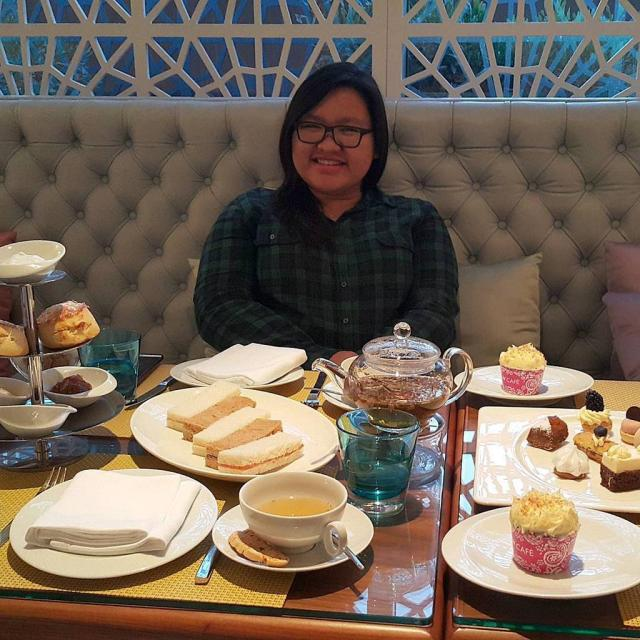Tea: (252, 493, 334, 523)
